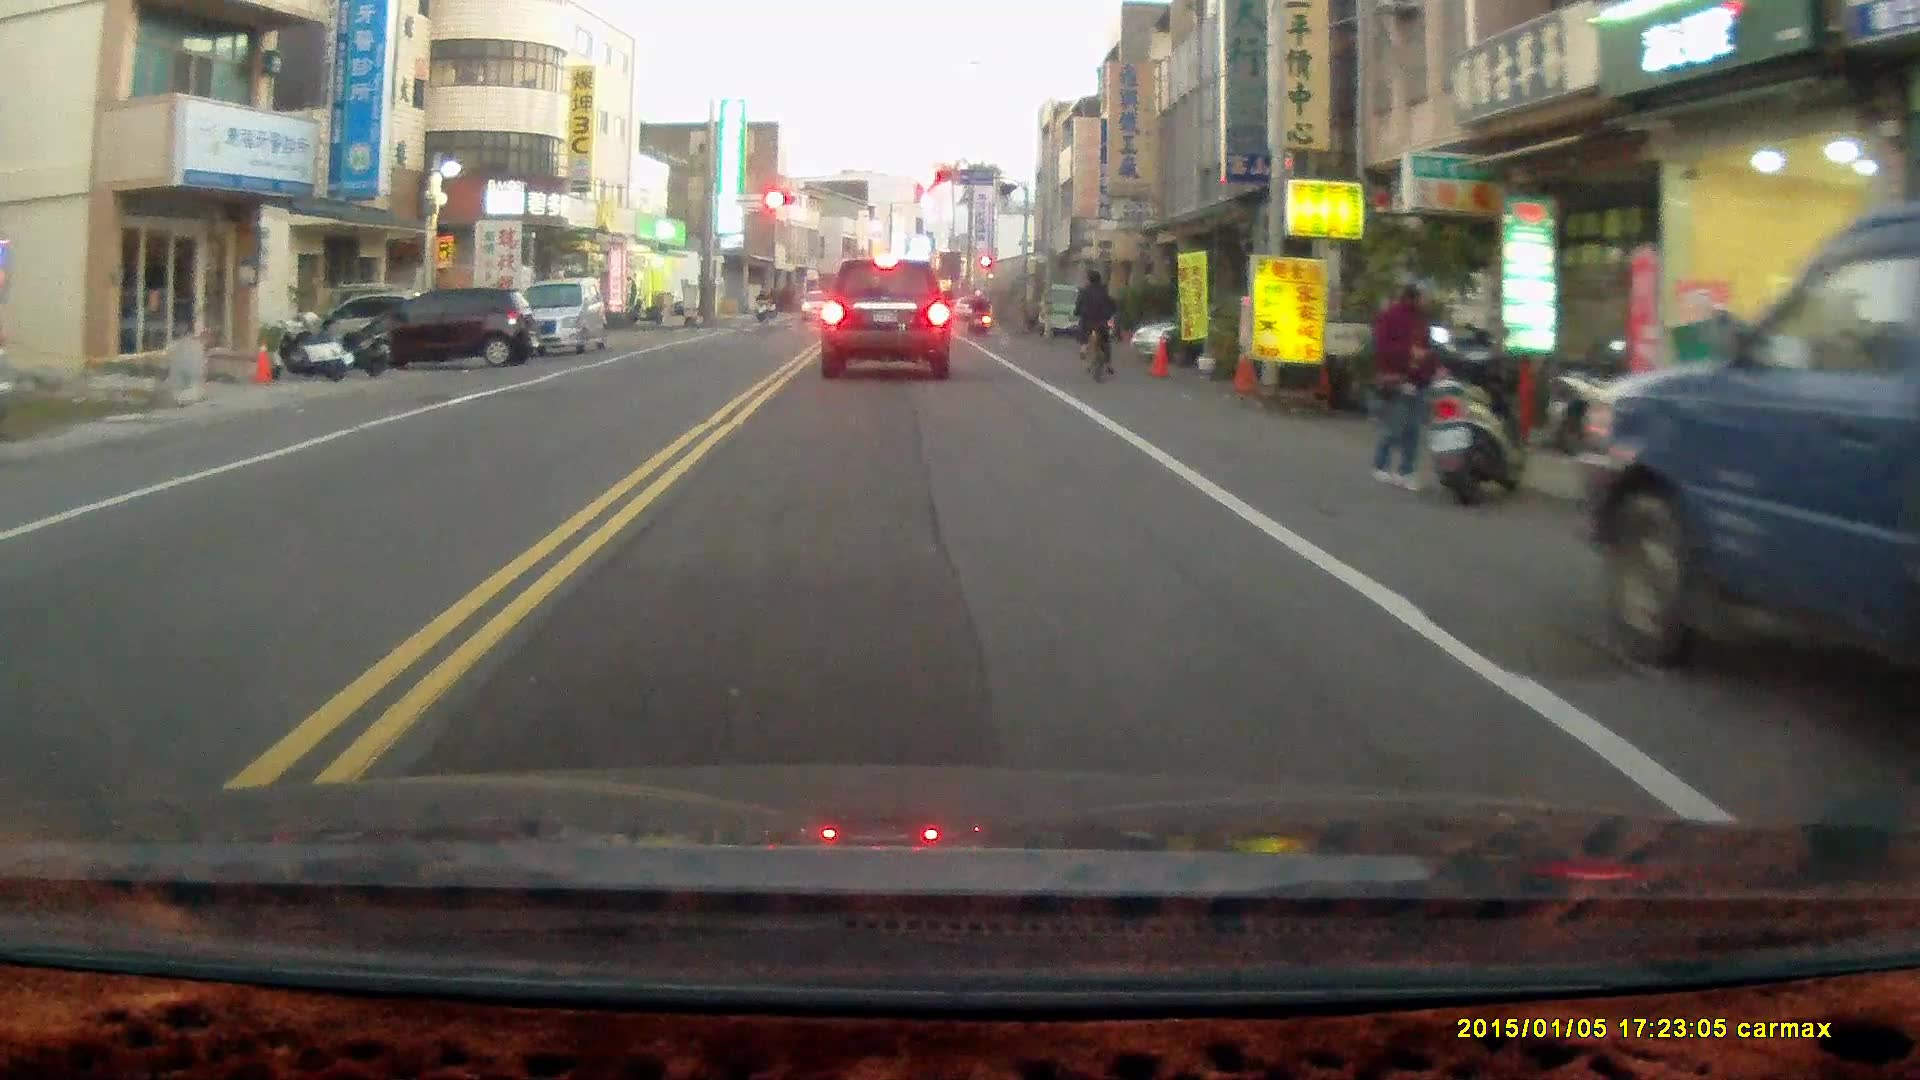pedestrian: (1363, 273, 1444, 490)
rider: (1073, 269, 1119, 384), (966, 287, 989, 338), (752, 284, 772, 322)
vehicle: (1574, 207, 1920, 700), (358, 284, 540, 376), (820, 259, 956, 382), (498, 274, 615, 360)
